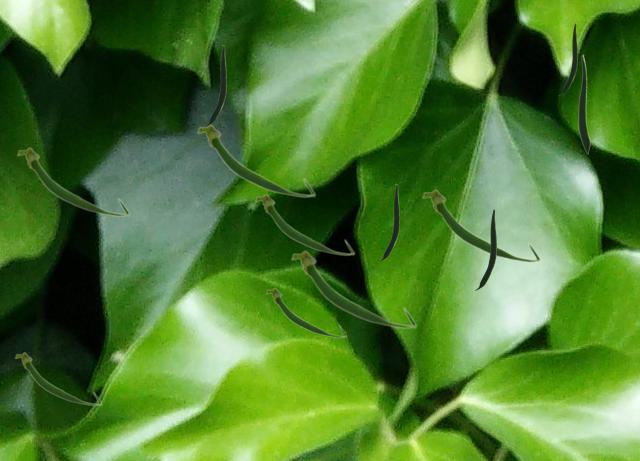french_bean: (290, 250, 416, 328), (196, 124, 315, 197), (421, 189, 540, 262), (16, 146, 129, 216), (254, 193, 354, 255), (14, 351, 101, 405), (265, 287, 346, 337), (205, 45, 225, 125), (475, 209, 495, 289), (379, 184, 398, 260), (559, 23, 576, 94), (578, 54, 589, 153)
